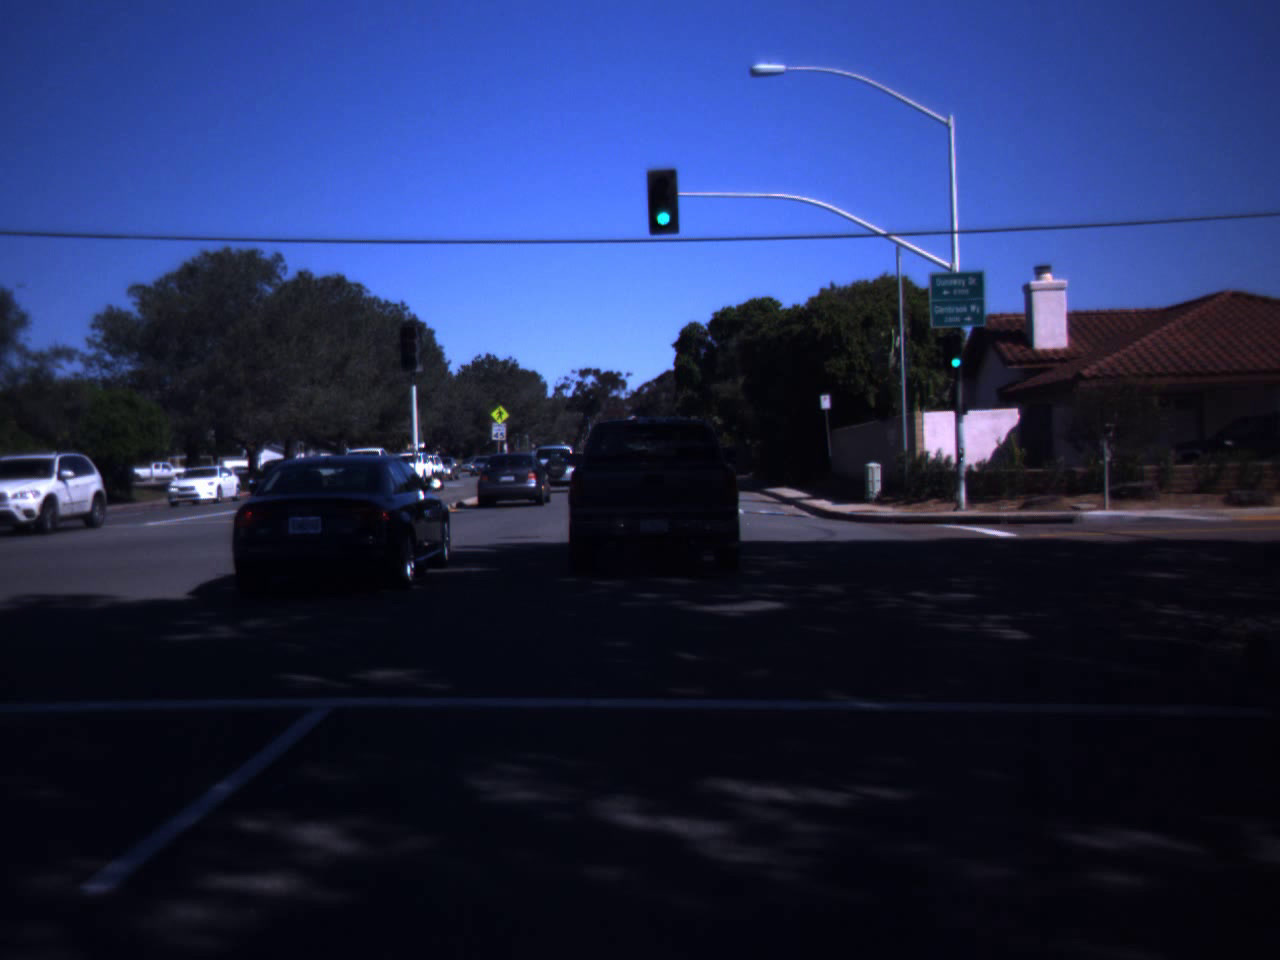go: (647, 172, 680, 227), (948, 339, 972, 369)
